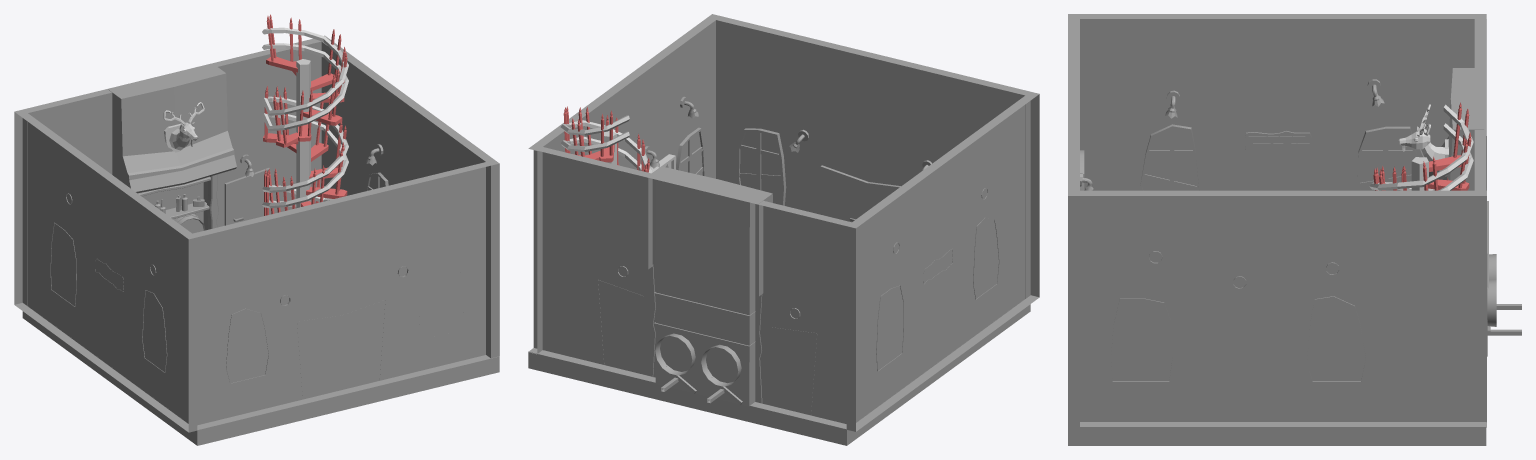
File: taverne.fbx
3 views of the same model, side by side, from view 1: azimuth 30°, elevation 25°; view 2: azimuth 150°, elevation 25°; view 3: azimuth 270°, elevation 25° (orthographic). The views are drawn at different scales.
Visible parts, largest first — view 1: mur_front, mur_left, mur_back, mur_right, arriere_bar, Escalier, sol, porte_R, cerf; view 2: mur_back, mur_left, mur_front, mur_right, sol, arriere_bar, Escalier, fenetre06, porte_L1, fenetre01, tonneau_sur_support1, tonneau_sur_support (+1 smaller); view 3: mur_right, mur_left, sol, mur_front, Escalier, fenetre03, arriere_bar, fenetre04, mur_back, fusils, cerf, tonneau_sur_support.
Boxes of the visible parts, bbox=[...] form: mur_front: bbox=[193, 160, 499, 425]; mur_left: bbox=[14, 109, 197, 432]; mur_back: bbox=[22, 36, 329, 305]; mur_right: bbox=[321, 35, 499, 358]; arriere_bar: bbox=[108, 64, 236, 229]; Escalier: bbox=[262, 14, 348, 215]; sol: bbox=[22, 306, 499, 445]; porte_R: bbox=[224, 168, 270, 225]; cerf: bbox=[163, 102, 204, 152]; mur_back: bbox=[528, 145, 851, 423]; mur_left: bbox=[846, 92, 1039, 431]; mur_front: bbox=[707, 14, 1030, 298]; mur_right: bbox=[529, 18, 715, 354]; sol: bbox=[528, 299, 1030, 445]; arriere_bar: bbox=[648, 166, 772, 403]; Escalier: bbox=[560, 106, 652, 173]; fenetre06: bbox=[737, 128, 786, 205]; porte_L1: bbox=[820, 165, 867, 222]; fenetre01: bbox=[676, 127, 705, 176]; tonneau_sur_support1: bbox=[701, 344, 742, 404]; tonneau_sur_support: bbox=[655, 333, 696, 393]; mur_right: bbox=[1080, 190, 1486, 427]; mur_left: bbox=[1068, 14, 1486, 190]; sol: bbox=[1068, 422, 1486, 445]; mur_front: bbox=[1068, 19, 1079, 426]; Escalier: bbox=[1369, 102, 1473, 190]; fenetre03: bbox=[1140, 124, 1199, 190]; arriere_bar: bbox=[1429, 68, 1488, 288]; fenetre04: bbox=[1357, 126, 1416, 190]; mur_back: bbox=[1474, 19, 1487, 356]; fusils: bbox=[1245, 131, 1311, 151]; cerf: bbox=[1398, 104, 1448, 176]; tonneau_sur_support: bbox=[1487, 279, 1521, 335].
Size of the model in its own units: 823 by 641 by 868.
